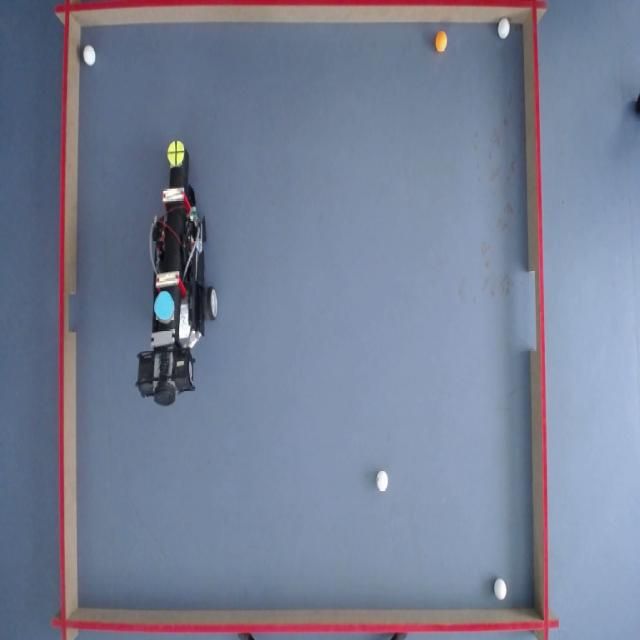orange: (435, 34, 449, 54)
robot: (142, 144, 218, 413)
robot-front: (167, 141, 186, 166)
robot-rear: (153, 290, 177, 323)
white: (495, 578, 509, 601), (498, 18, 512, 39), (83, 46, 96, 68), (376, 470, 388, 492)
